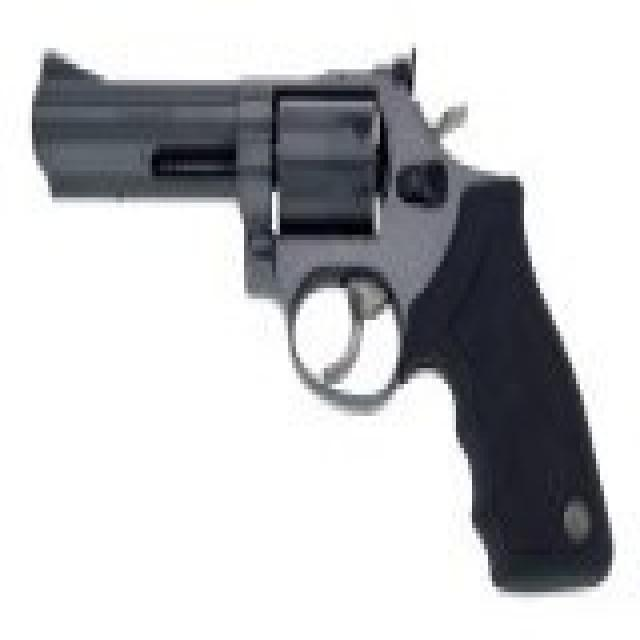Gun: (22, 18, 619, 589)
